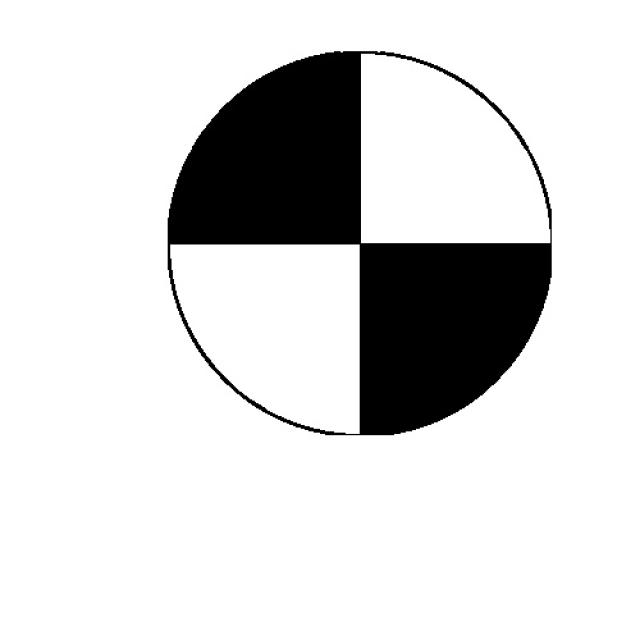Marcadores: (167, 51, 552, 436)
